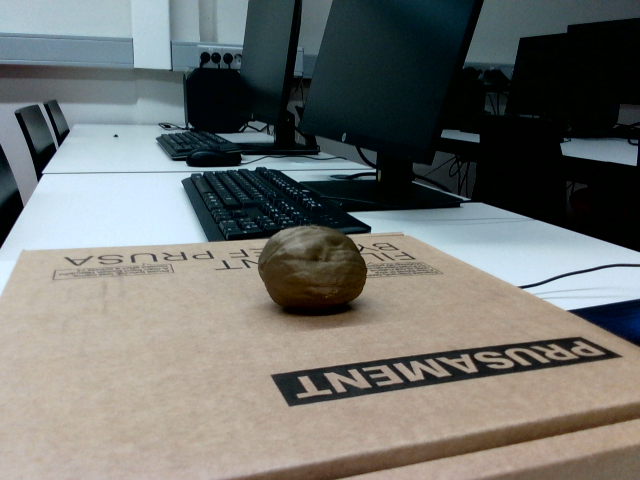walnut: (259, 226, 366, 308)
